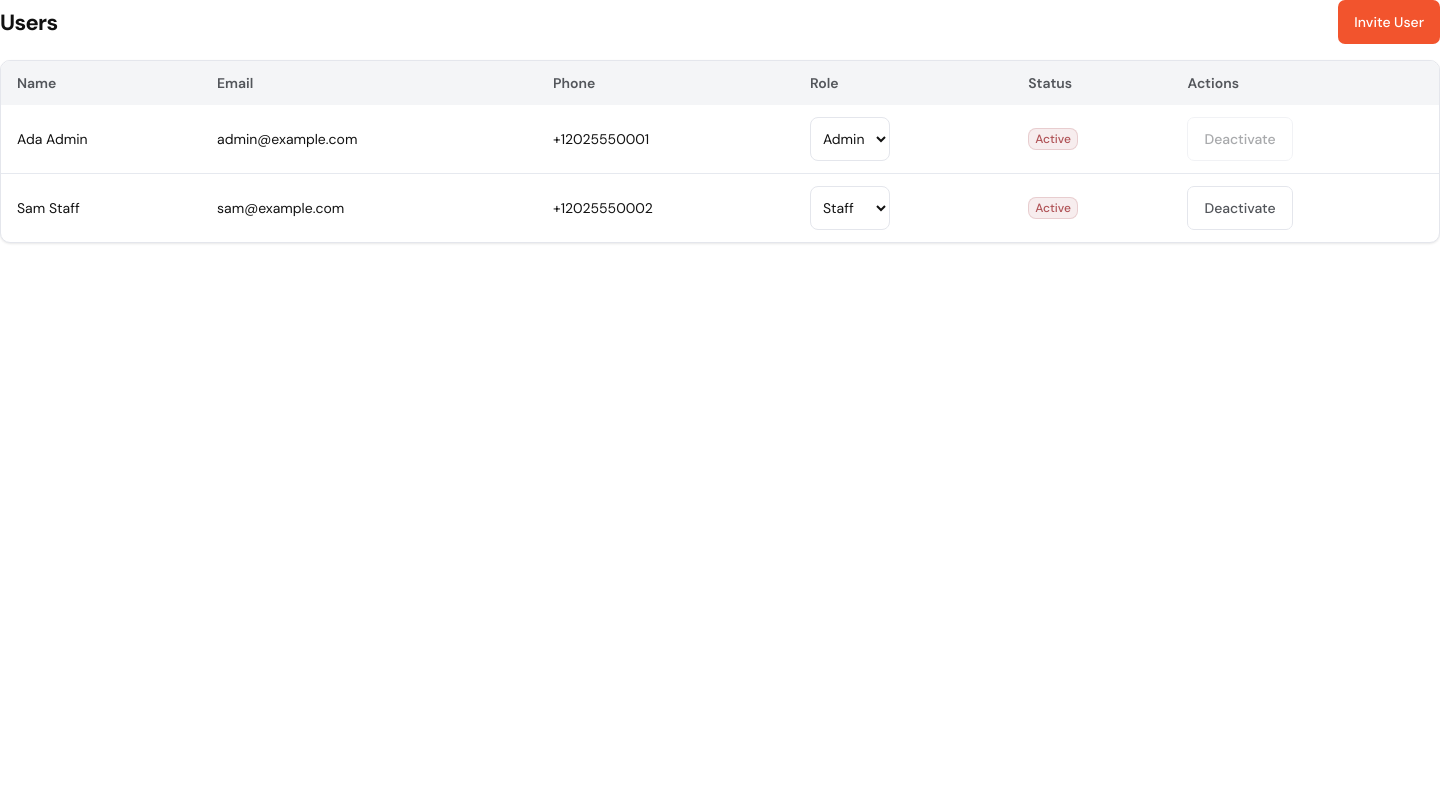
Test case: Users — invite result › warns when the account was created but the invite SMS failed
The image size is (1440, 810).
Click the button "Invite User" at coordinates (1389, 22), box top-left (1338, 0), bottom-right (1439, 44)
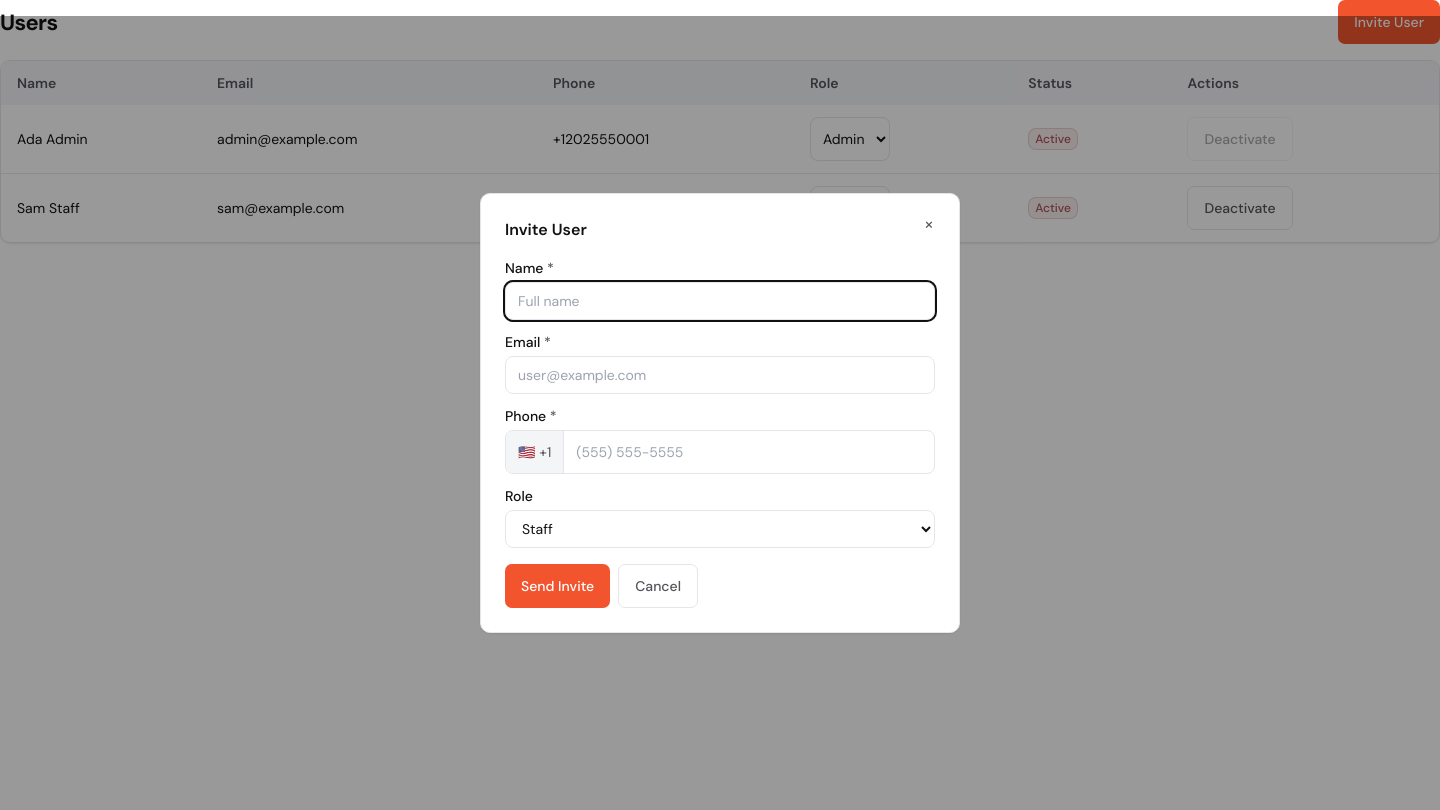
Type "Nia New" into the field with placeholder "Full name" at coordinates (720, 301), box top-left (505, 282), bottom-right (935, 320)
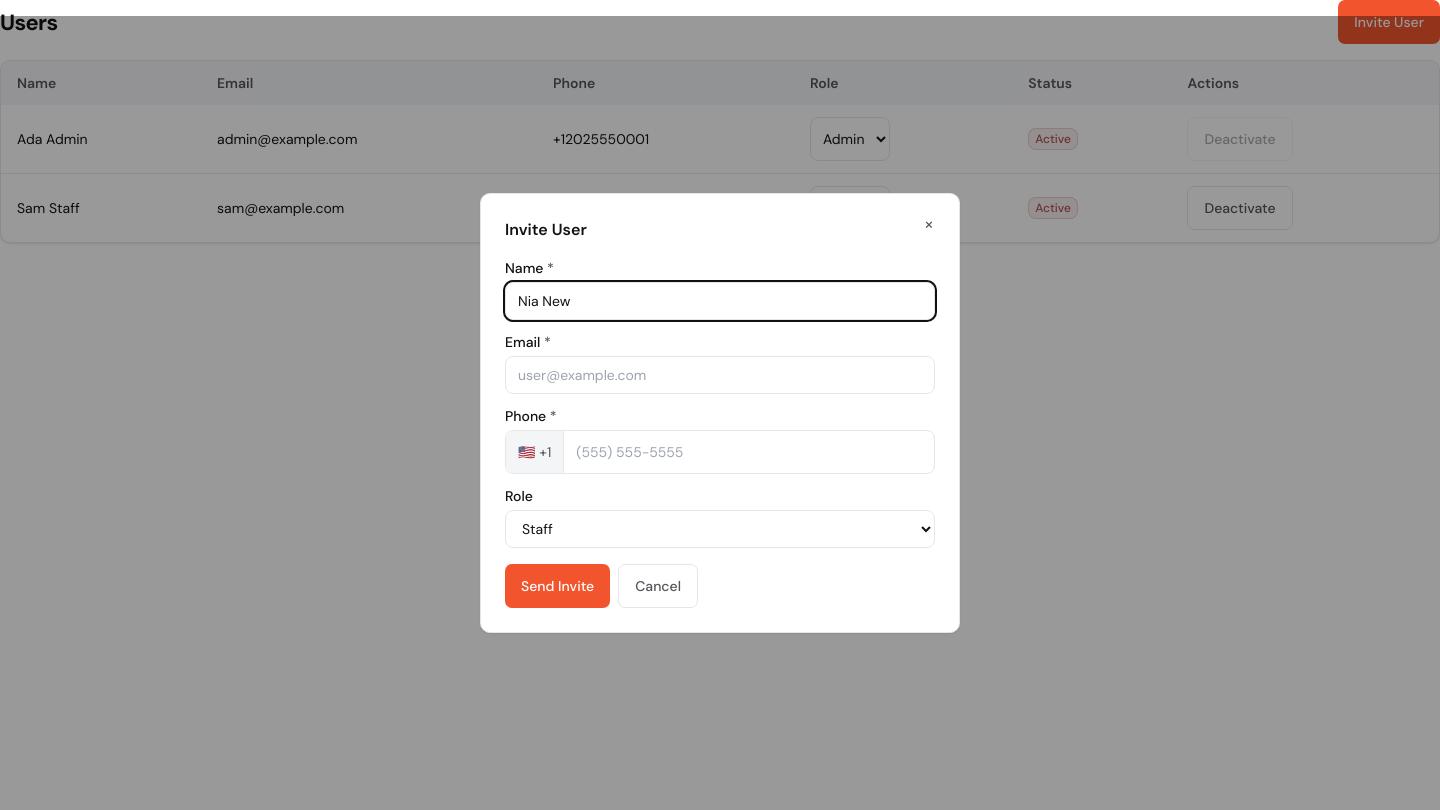
Type "new@example.com" into the field with placeholder "user@example.com" at coordinates (720, 375), box top-left (505, 356), bottom-right (935, 394)
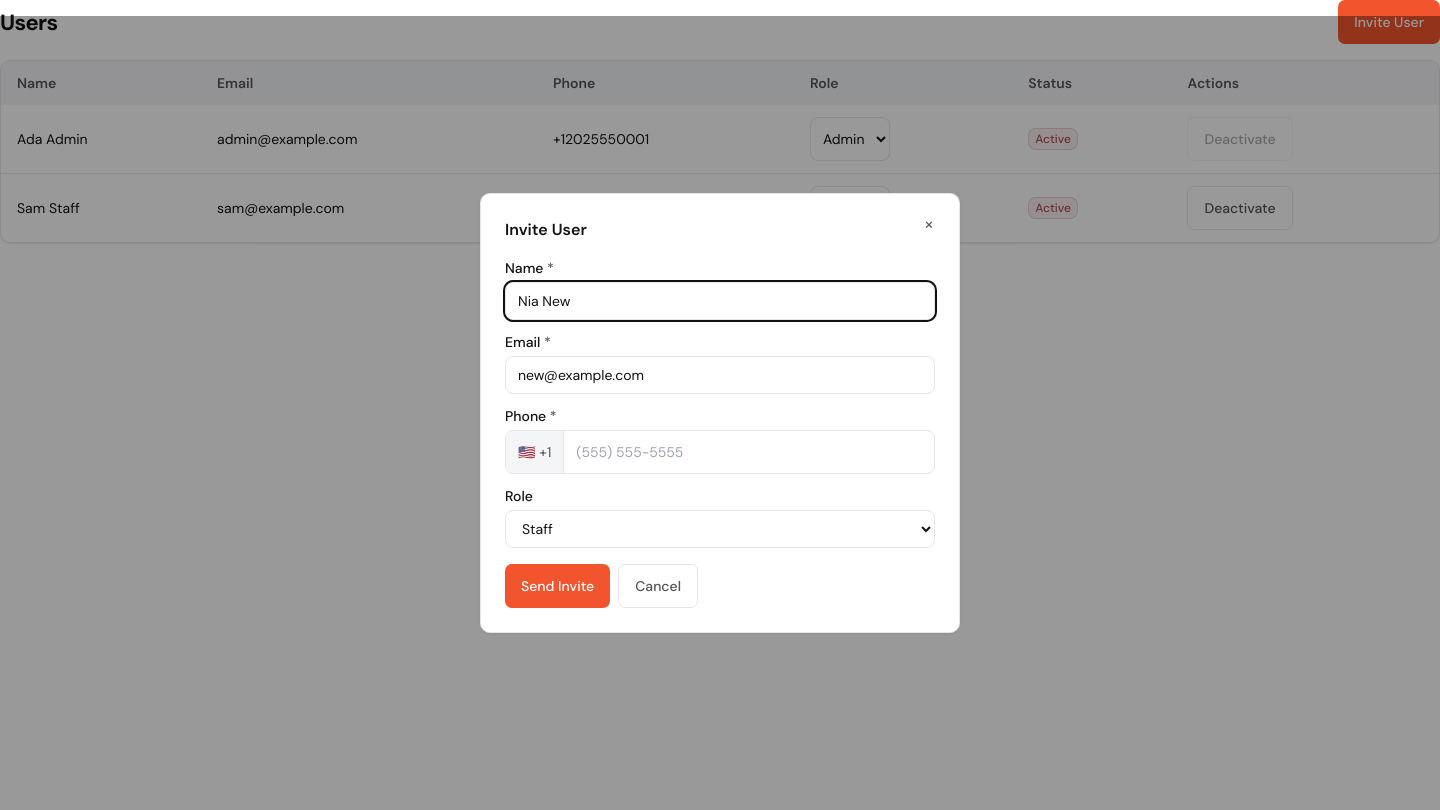
Type "2025550003" into the field with placeholder "(555) 555-5555" at coordinates (749, 452), box top-left (564, 431), bottom-right (934, 473)
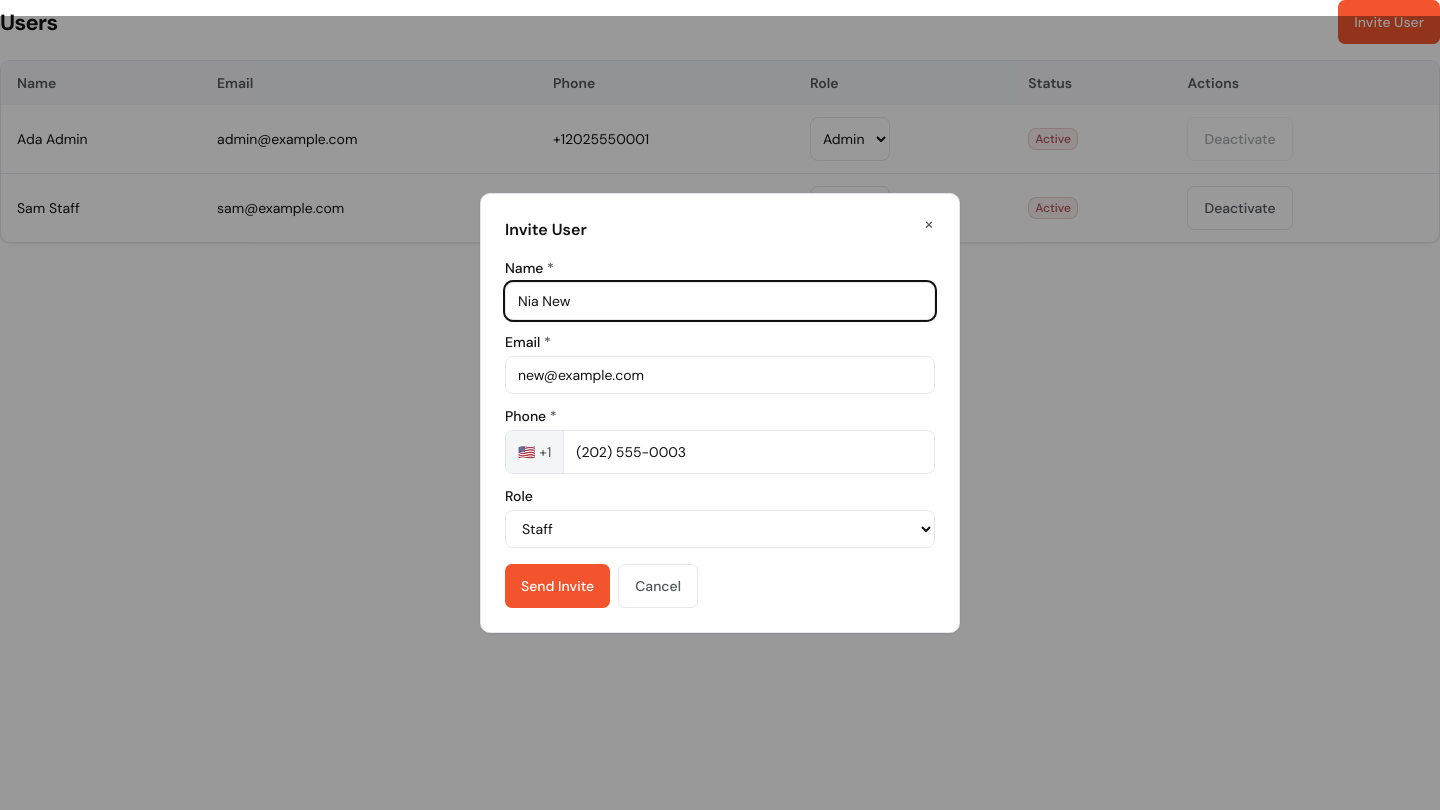
Click the button "Send Invite" at coordinates (558, 586), box top-left (505, 564), bottom-right (610, 608)
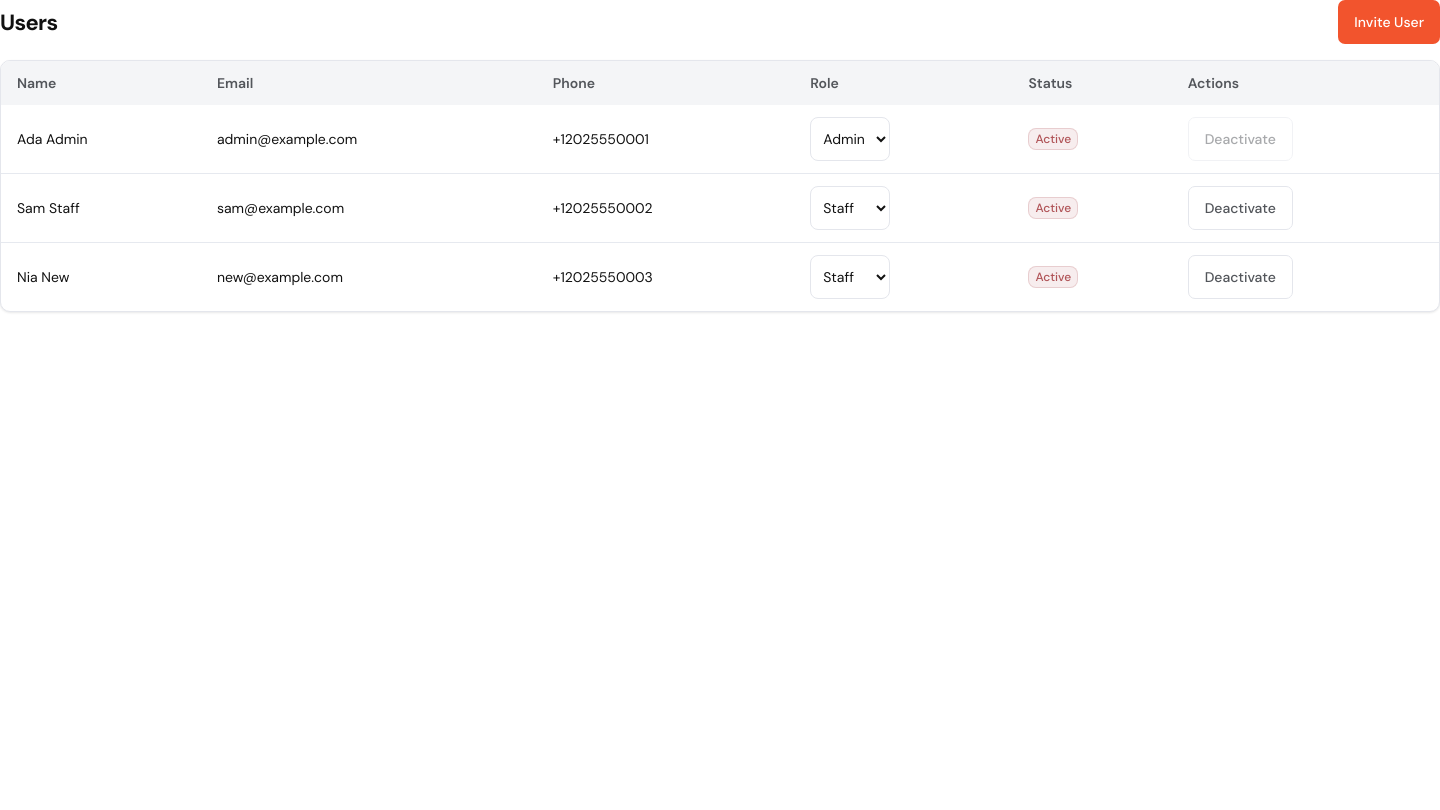
expect the text "Nia New" is shown: met, box top-left (1, 242), bottom-right (201, 311)
